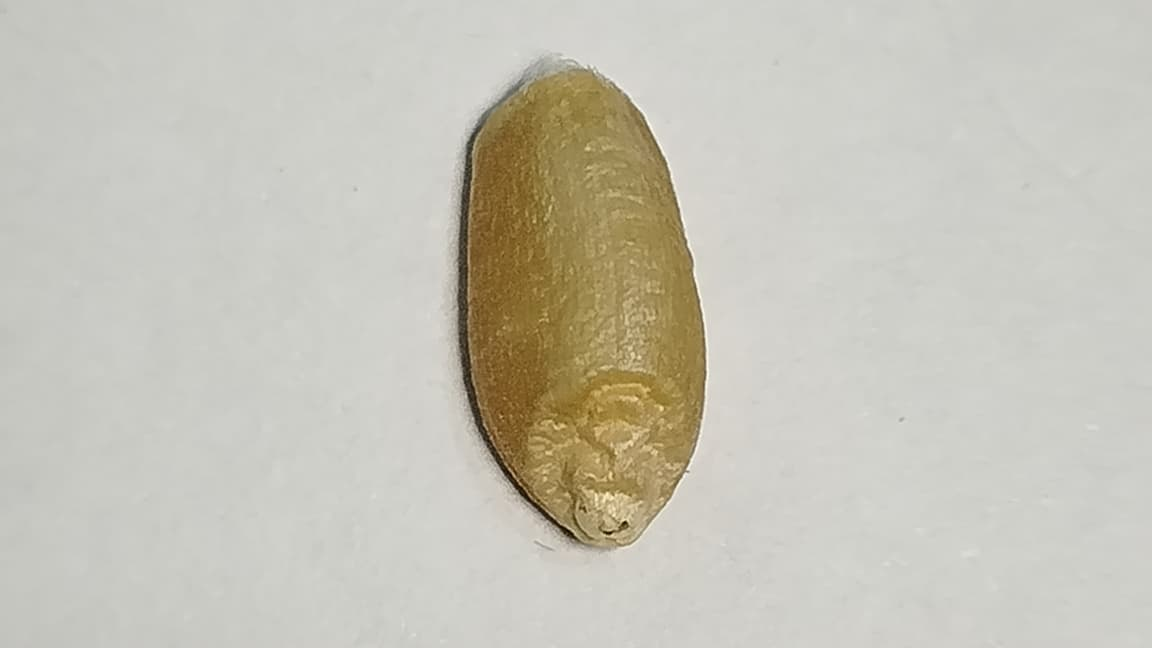healthy: (460, 58, 705, 547)
